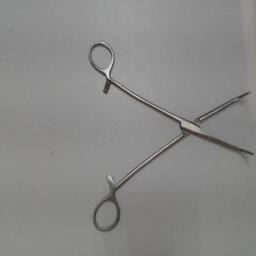Lahey Forceps: (84, 36, 256, 236)
